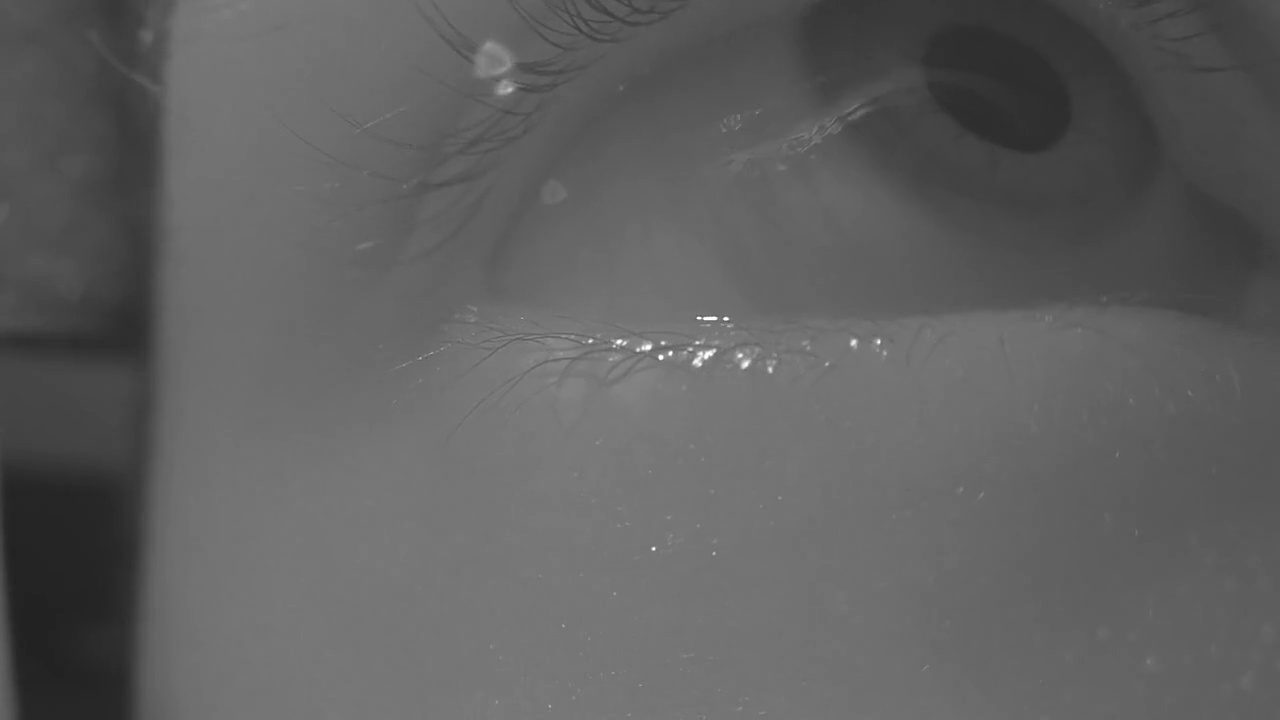pupil: (923, 23, 1074, 155)
